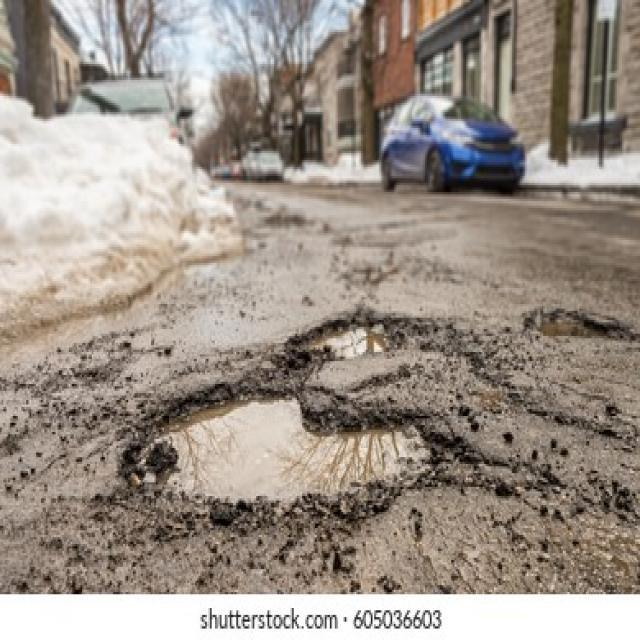Pothole: (120, 377, 432, 517), (287, 318, 402, 359), (525, 306, 629, 343)
